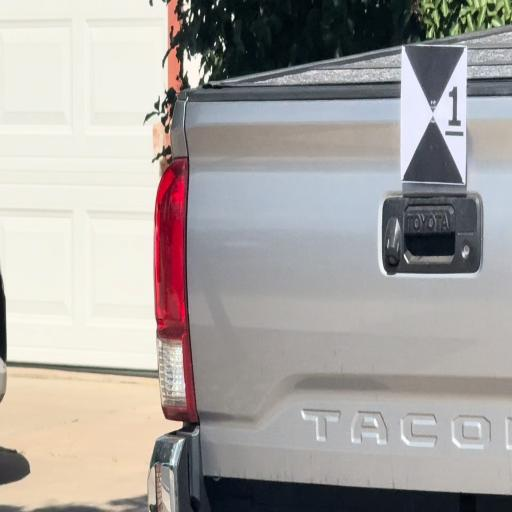target1: (402, 44, 466, 186)
